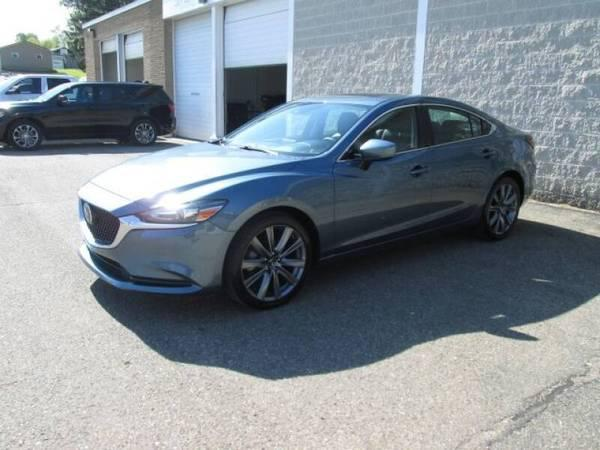Front_Bumper: (76, 218, 234, 295)
Front_Fender: (184, 172, 329, 263)
Front_Left_Door: (327, 147, 425, 253)
Front_Left_Window: (331, 107, 423, 164)
Front_Windshield: (220, 102, 373, 156)
Grille: (79, 196, 121, 245)
Hood: (80, 140, 319, 215)
Left_Headlight: (131, 199, 226, 226)
Rear_Fender: (483, 121, 537, 202)
Rear_Left_Door: (423, 132, 494, 231)
Rear_Left_Window: (419, 107, 490, 149)
Roof: (296, 94, 527, 164)
Wheel: (229, 213, 313, 306), (485, 178, 523, 237)
